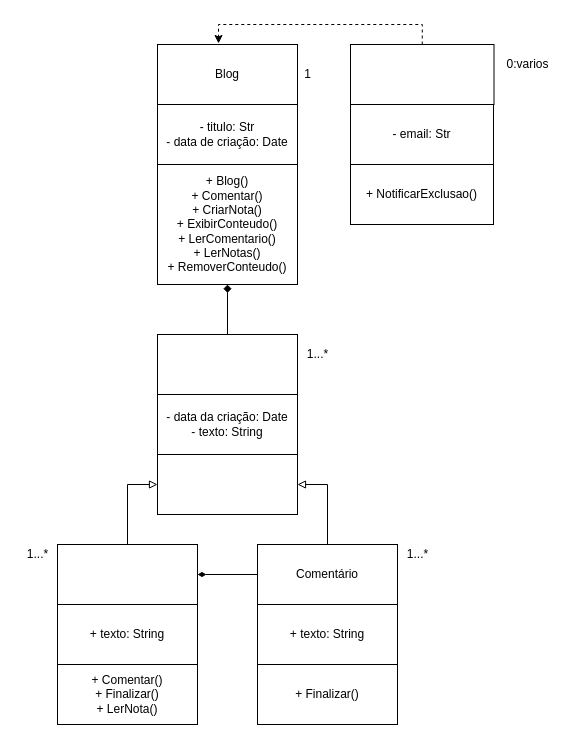
This 574x742 diagram has some shape labels left out. Each missing label, with the centre of its shape:
"+ Conteudo() + ExibirConteudo()" belongs at point (227, 484).
"Conteúdo" belongs at point (227, 364).
"Nota" belongs at point (127, 574).
"Usuário" belongs at point (422, 74).
